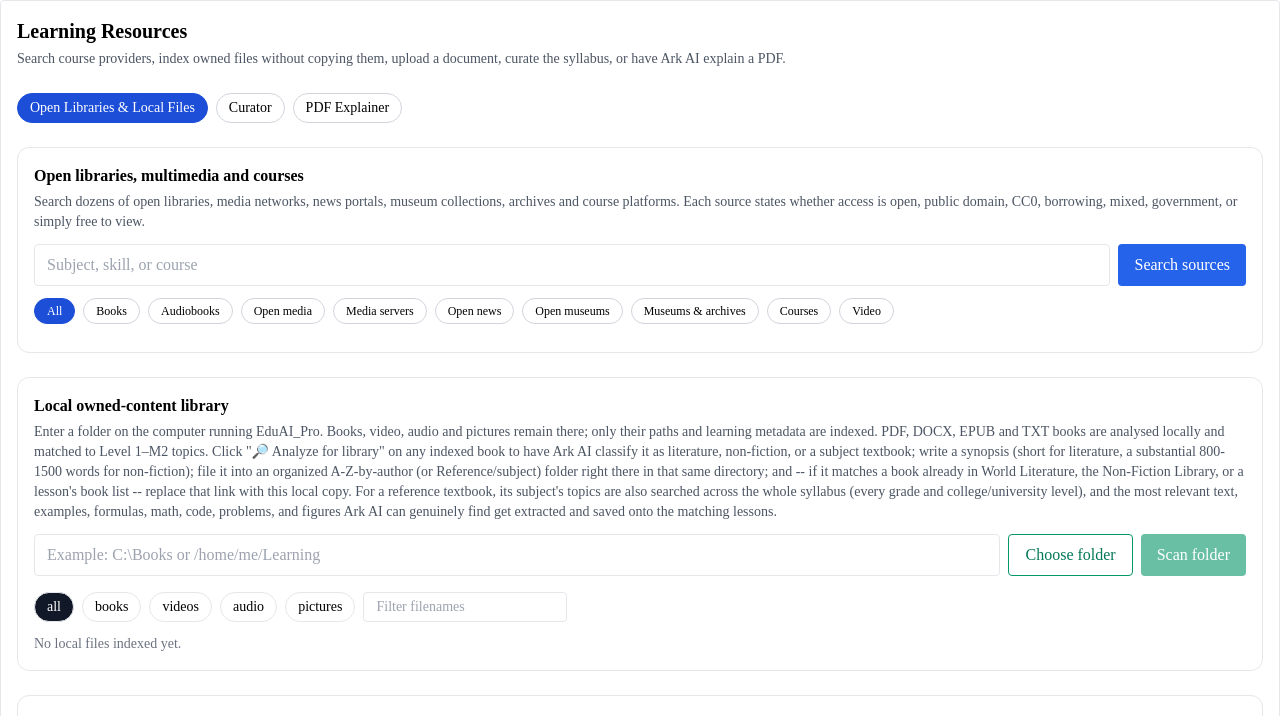
it: ResourceTab Local Library Ark AI categorisation › reports when Ark AI categorisation was capped for this scan
This screenshot has width=1280, height=716.
Expected: the text "No local files indexed yet." is shown, [34,636,181,651]
Type "/home/me/Library" into the field named "Folder to scan".
click(517, 555); type("/home/me/Library")  # box [34,534,1000,576]
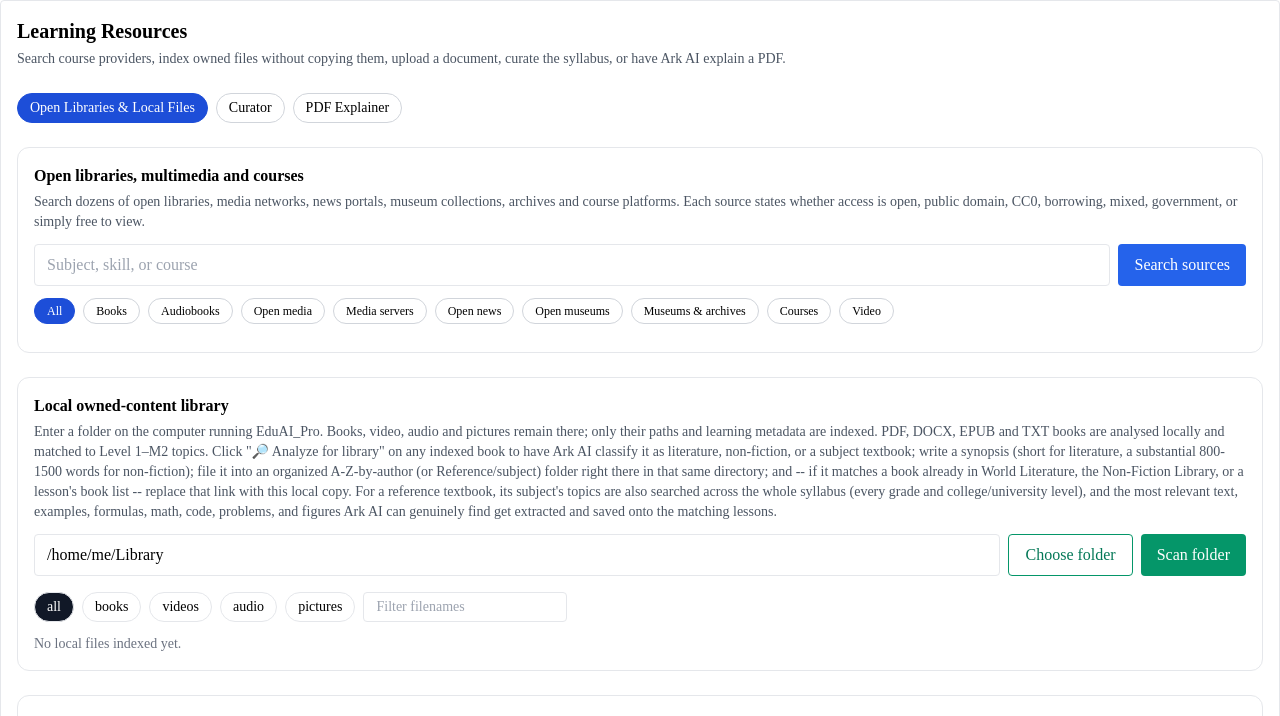
Click the button "Scan folder".
click(1193, 555)  # box [1141,534,1246,576]
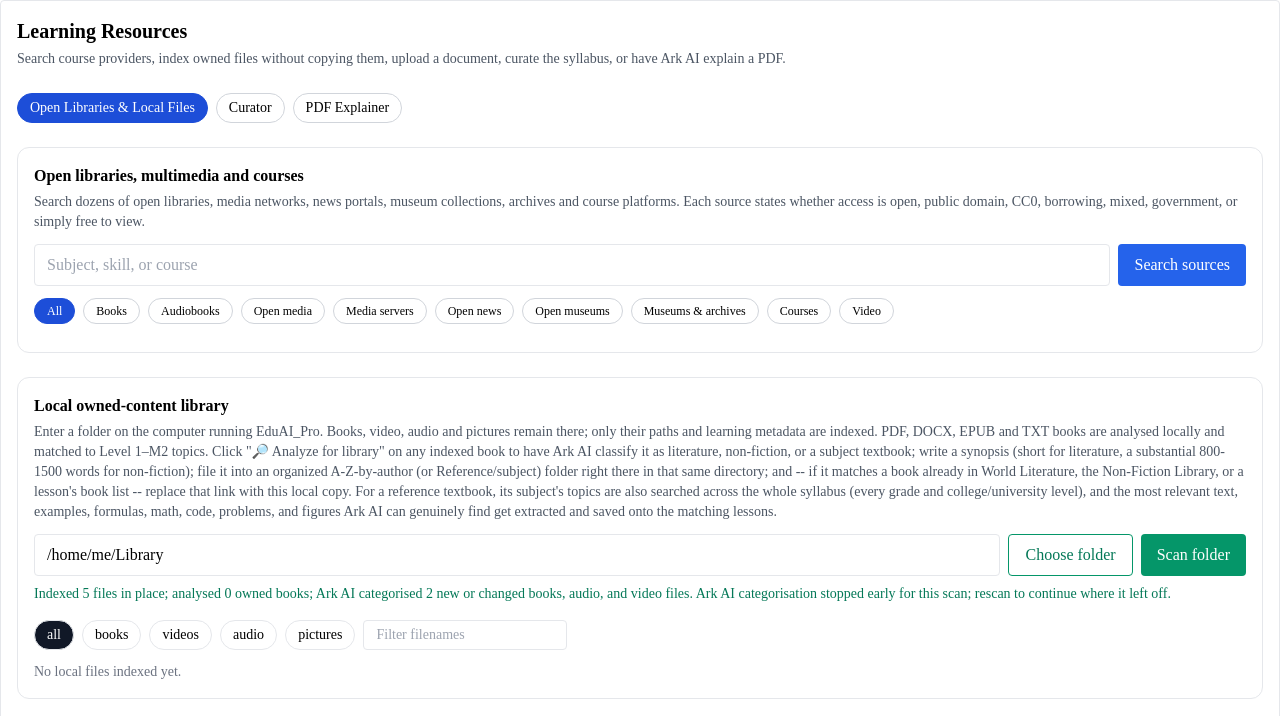
Result: the text "stopped early for this scan" is shown at [34,586,1171,601]
